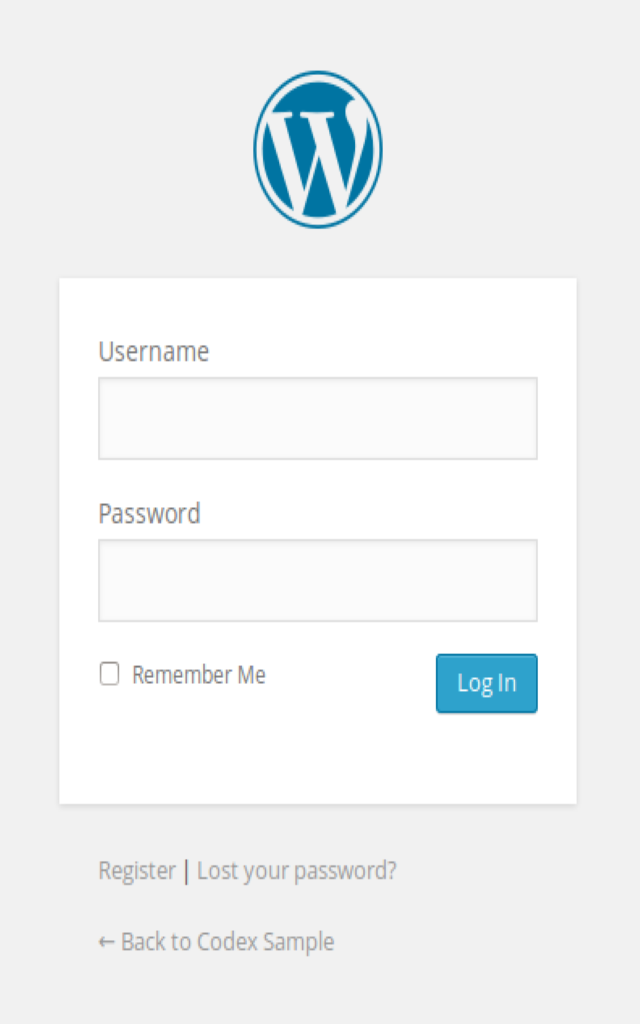button: (436, 655, 538, 717)
button_SignIn: (438, 655, 536, 713)
checkbox: (100, 663, 122, 686)
checkbox_remember: (94, 657, 274, 694)
label_SignIn: (455, 672, 525, 697)
label_Username: (99, 335, 214, 367)
label_password: (97, 497, 206, 525)
label_remember: (128, 661, 270, 689)
textbox: (97, 377, 538, 461), (102, 538, 534, 619)
textbox_Password: (99, 536, 539, 621)
textbox_username: (94, 375, 538, 463)
